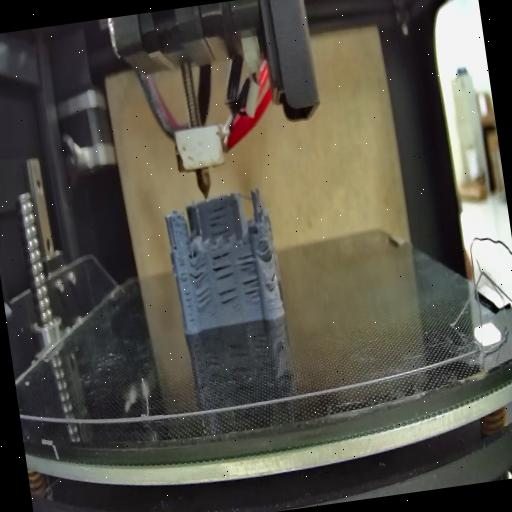cracks: (178, 266, 196, 326), (210, 247, 236, 283), (206, 206, 232, 240), (240, 275, 262, 305), (216, 284, 240, 308), (192, 287, 214, 312), (188, 258, 210, 282), (234, 250, 257, 272), (262, 240, 276, 262), (270, 270, 280, 286), (171, 239, 180, 253)
